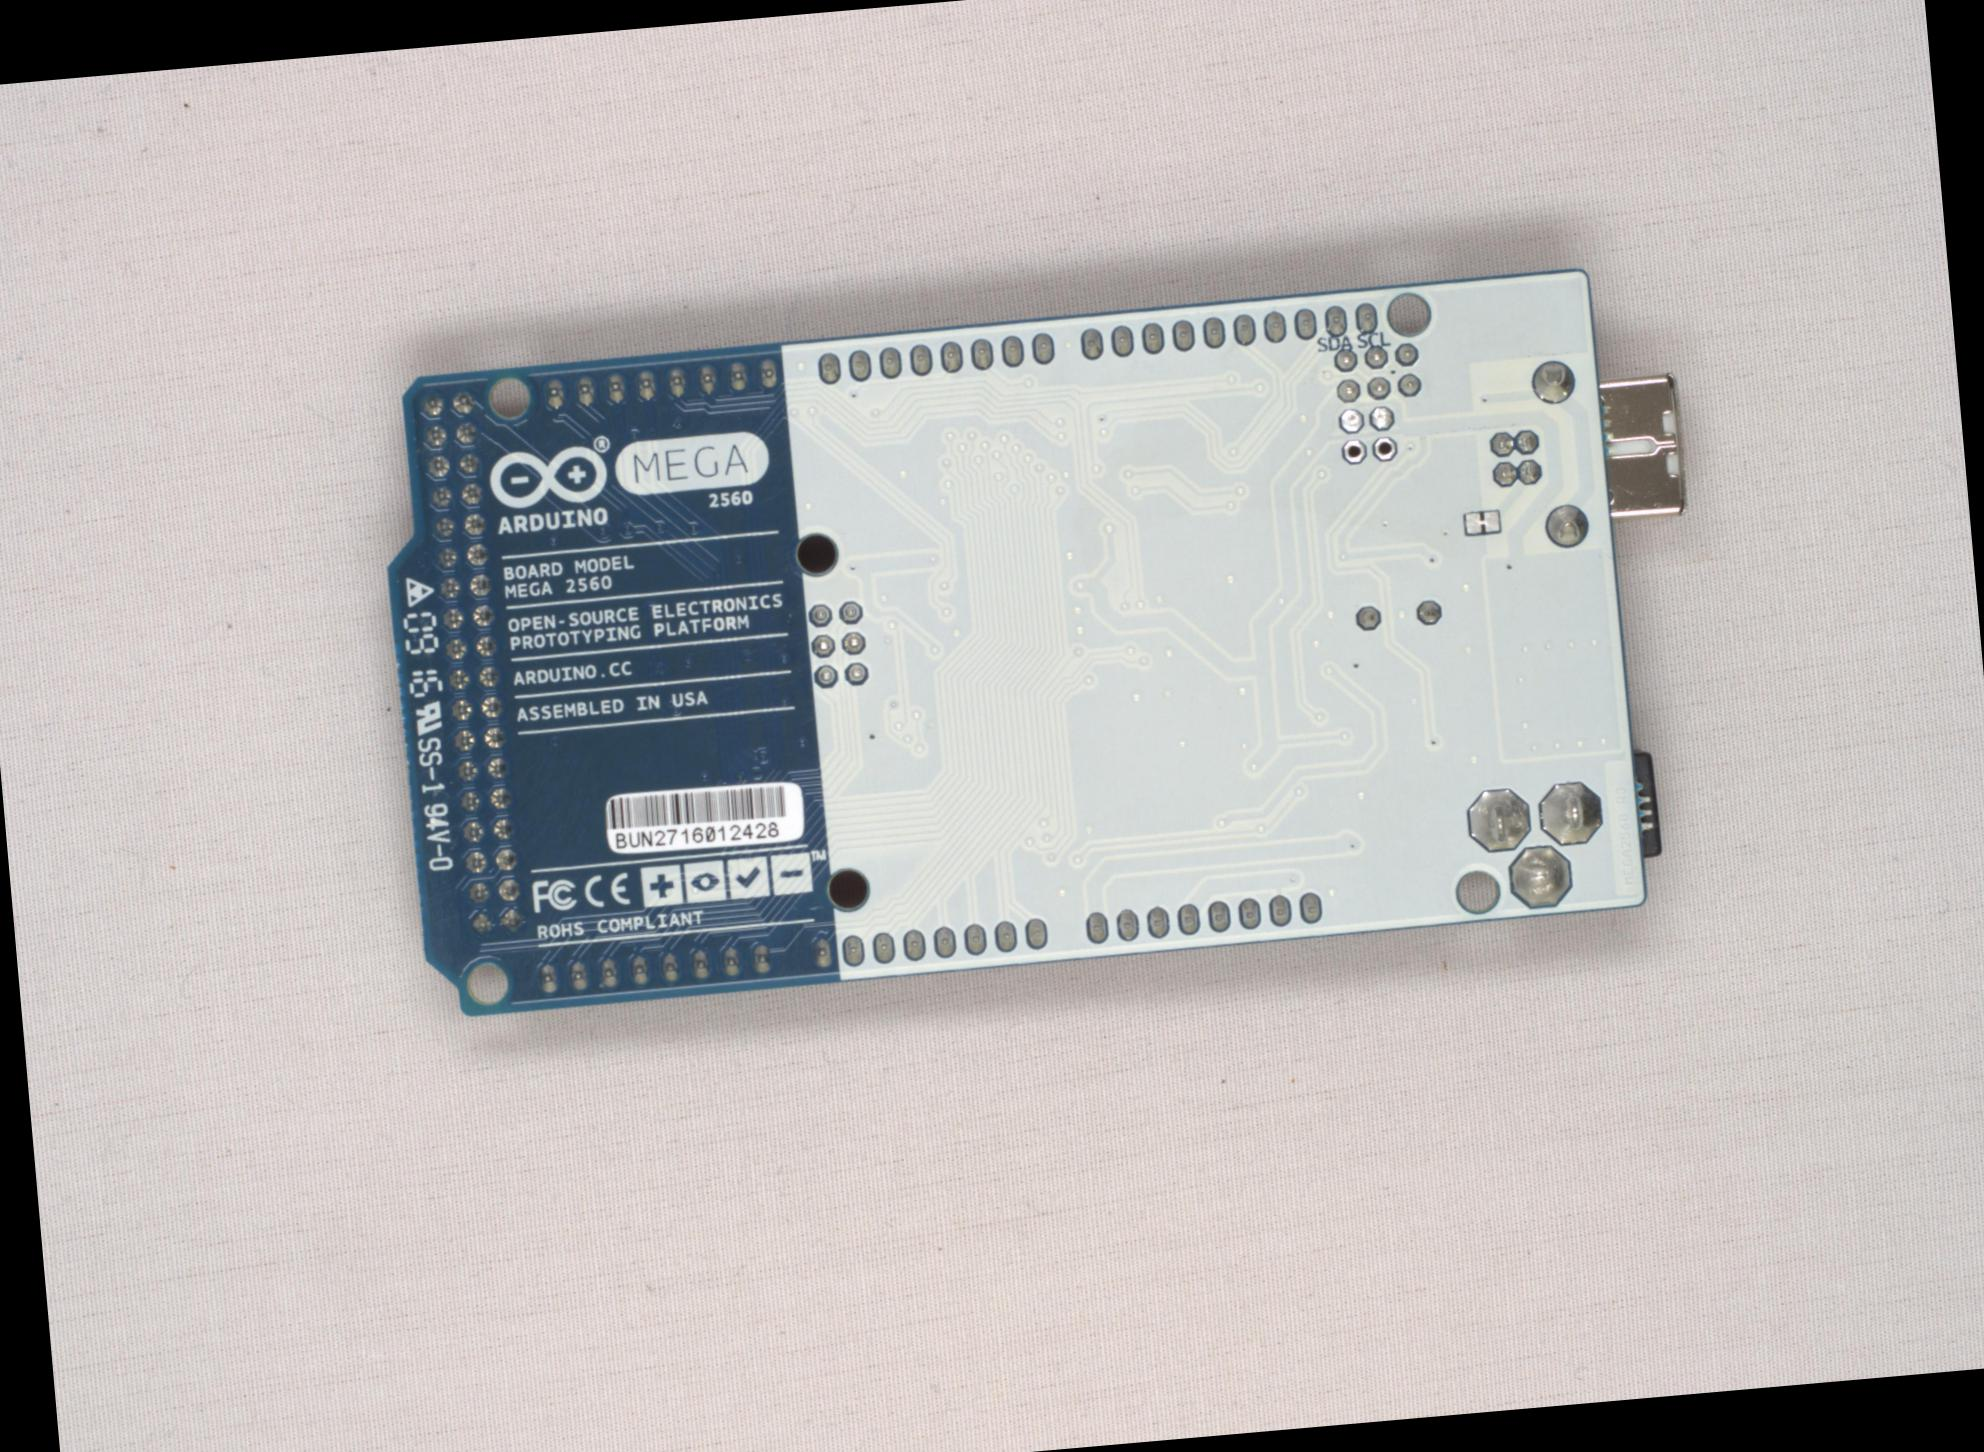Connector: (1593, 374, 1687, 519), (1329, 400, 1403, 436), (1334, 434, 1402, 468)
Pads: (1459, 507, 1502, 534)
Pins: (417, 383, 525, 939), (1460, 776, 1614, 916), (1077, 299, 1379, 357), (1080, 888, 1326, 947), (812, 330, 1060, 386), (535, 939, 773, 998), (541, 354, 783, 411), (806, 915, 1051, 970), (1530, 353, 1591, 550), (803, 596, 873, 690), (1331, 342, 1422, 403), (1482, 425, 1548, 496), (1348, 596, 1443, 633)
